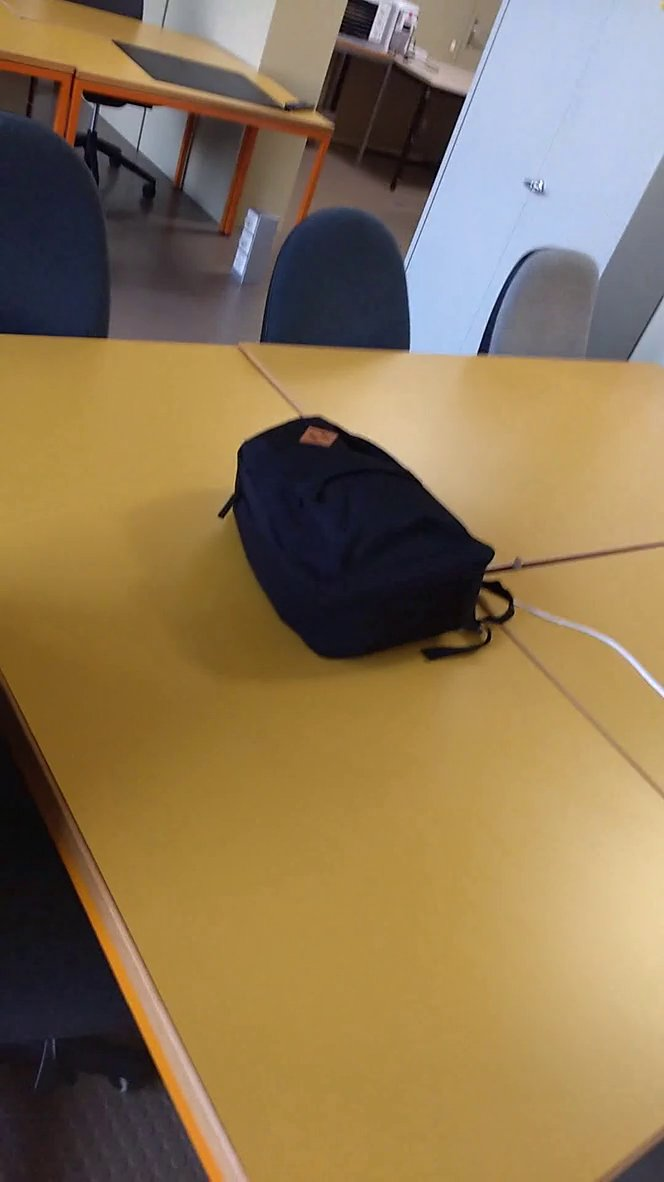bag: (201, 400, 539, 691)
chair: (244, 200, 436, 380), (468, 230, 613, 385)
